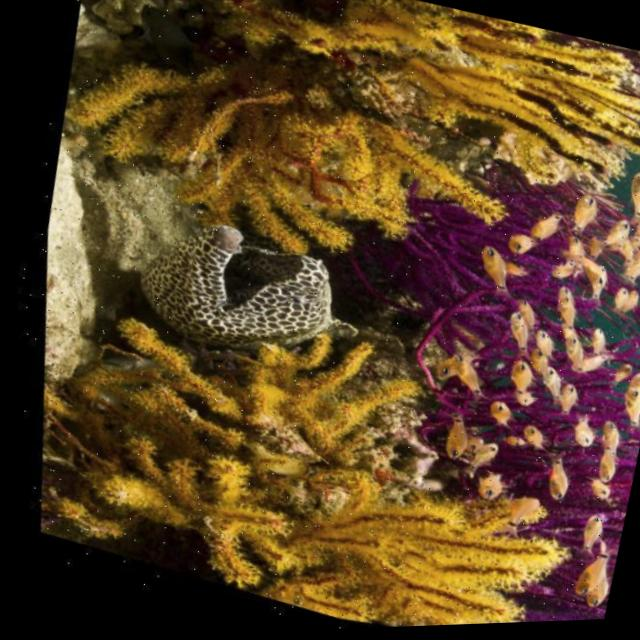Healthy Coral: (12, 0, 640, 398), (12, 235, 622, 640)
